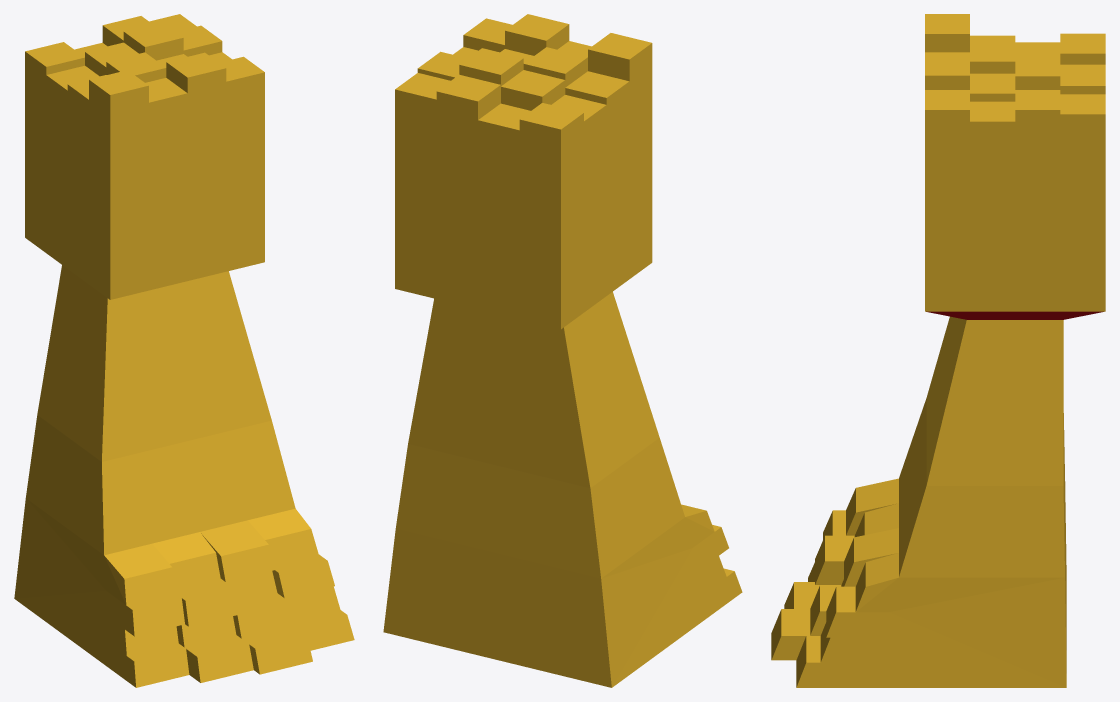
The model's file is SK_Base(fullbody) 1.fbx.
The picture shows the model from 3 angles, left to right: view 1: azimuth 30°, elevation 25°; view 2: azimuth 150°, elevation 25°; view 3: azimuth 270°, elevation 25°; orthographic projection. The views are drawn at different scales.
Visible parts, largest first — view 1: Base_Body; view 2: Base_Body; view 3: Base_Body.
Part boxes in pixels (box(x1,y1,x2,y2)): Base_Body: box(14, 14, 354, 687); Base_Body: box(383, 14, 742, 687); Base_Body: box(771, 14, 1105, 687).
Size of the model in its own units: 2399 by 5871 by 3071.
